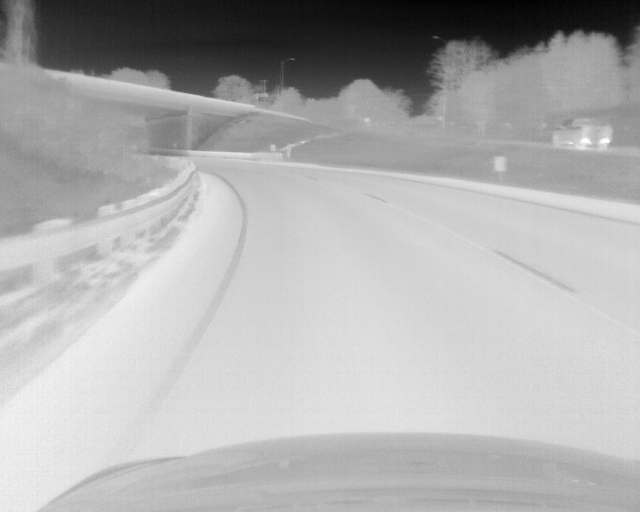car: (550, 116, 613, 149)
